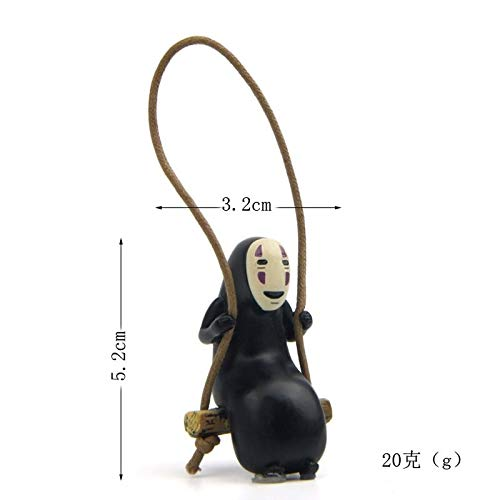(g): (433, 452, 461, 470)
2058: (383, 450, 420, 469)
em: (111, 332, 126, 360)
